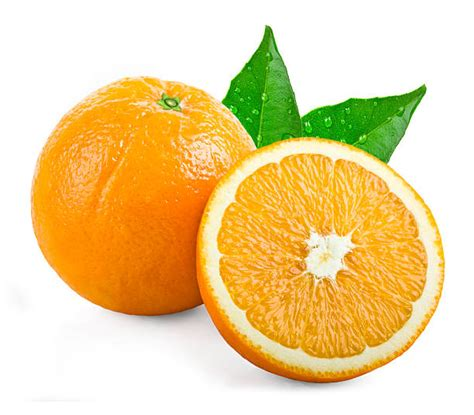orange: (25, 69, 266, 322)
